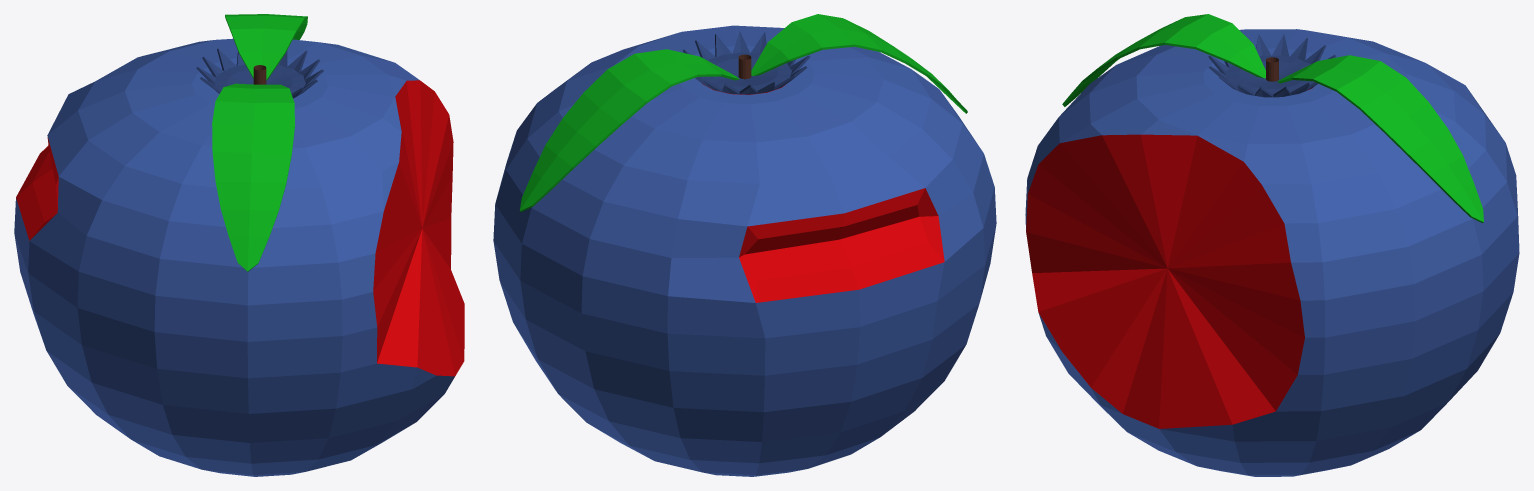
The model's file is Bad_2.fbx.
3 renders of one model, left to right at view 1: azimuth 30°, elevation 25°; view 2: azimuth 150°, elevation 25°; view 3: azimuth 270°, elevation 25°, orthographic. The views are drawn at different scales.
Visible parts, largest first — view 1: BerryBad.002; view 2: BerryBad.002; view 3: BerryBad.002.
Part boxes in pixels (x1,y1,x2,y2): BerryBad.002: (14,14,464,476); BerryBad.002: (493,14,996,476); BerryBad.002: (1025,14,1519,476).
Bounding box in the file's own units: 207 × 185 × 206.
